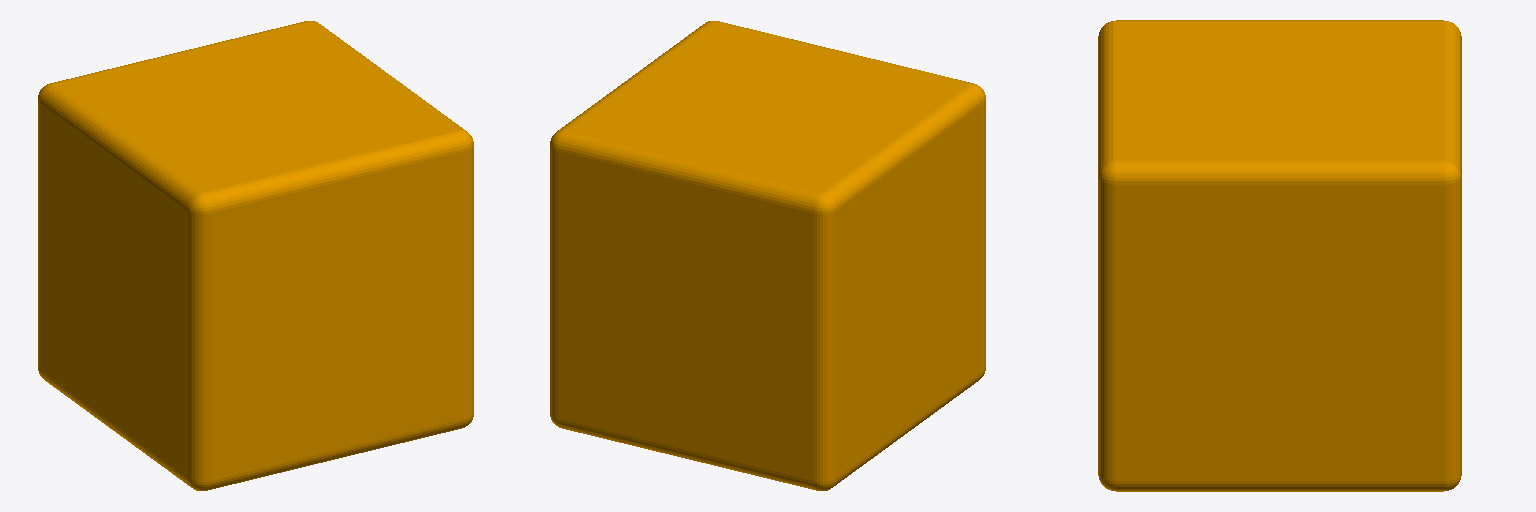
robot.urdf — cube:

<robot name="cube">
    <link name="base">
        <inertial>
            <origin xyz="0.0 0.0 -0.0" />
            <mass value="0.9936" />
            <inertia ixx="0.1643" ixy="0.0" 
                     ixz="-0.0" iyy="0.1643" 
                     iyz="0.0" izz="0.1643" />
        </inertial>
        <visual>
            <origin xyz="0 0 0" />
            <geometry>
                <mesh filename="visual_geometry.obj" />
            </geometry>
        </visual>
        <collision>
            <origin xyz="0 0 0" />
            <geometry>
                <mesh filename="collision_geometry.obj" />
            </geometry>
        </collision>
    </link>
</robot>

--- Facts derived from the render (not from the file) ---
Views: 3 orthographic renders of the robot side by side, from view 1: azimuth 30°, elevation 25°; view 2: azimuth 150°, elevation 25°; view 3: azimuth 270°, elevation 25°.
Model cube with 1 links and 0 joints (none), rooted at base, posed all joints at 0.
Visible links, largest first — view 1: base; view 2: base; view 3: base.
Link boxes in pixels (left/top/right/bottom): base: left=38, top=21, right=473, bottom=490; base: left=550, top=21, right=985, bottom=490; base: left=1098, top=20, right=1461, bottom=491.
Bounding box of the posed robot: 1 × 1 × 1 m (x, y, z).
Meshes: 1 distinct files referenced, 1 mesh visuals loaded (1 OBJ).